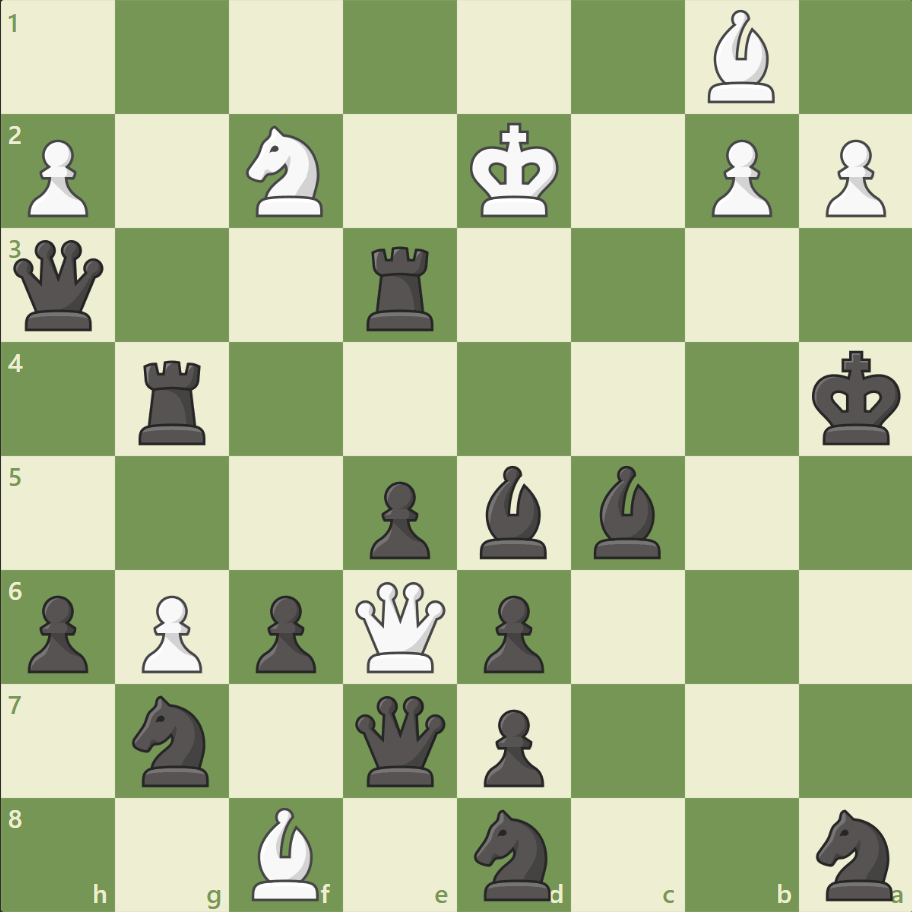B: (244, 801, 328, 904), (698, 6, 782, 109)
K: (465, 117, 565, 225)
N: (238, 121, 335, 223)
P: (133, 586, 208, 677), (701, 132, 776, 223), (20, 132, 95, 223), (815, 132, 889, 223)
Q: (351, 576, 450, 676)
b: (585, 460, 669, 563), (471, 460, 555, 563)
k: (806, 344, 906, 452)
n: (124, 688, 222, 791), (806, 802, 903, 904), (465, 802, 562, 904)
p: (474, 700, 549, 791), (474, 586, 549, 677), (247, 586, 322, 677), (20, 586, 95, 677), (361, 473, 435, 564)
q: (351, 690, 450, 789), (10, 236, 109, 335)
r: (133, 352, 215, 449), (360, 239, 442, 336)
